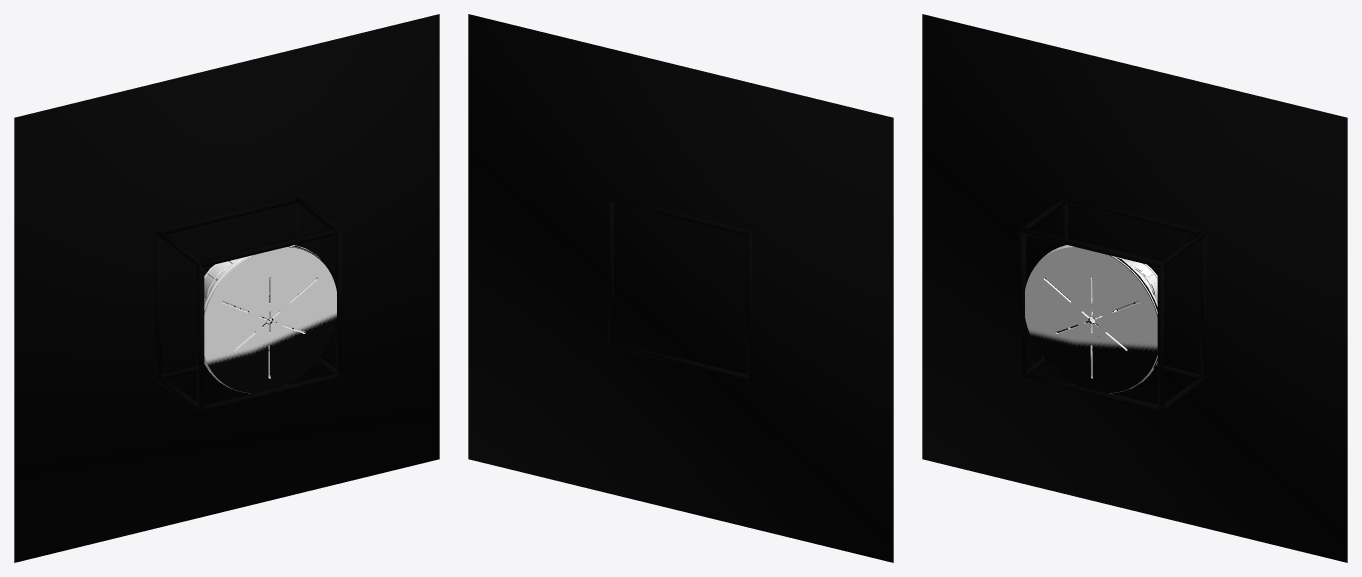
3 renders of one model, left to right at view 1: azimuth 30°, elevation 25°; view 2: azimuth 150°, elevation 25°; view 3: azimuth 330°, elevation 25°, orthographic.
Bounding box in the file's own units: 2 × 2 × 0.3698.
